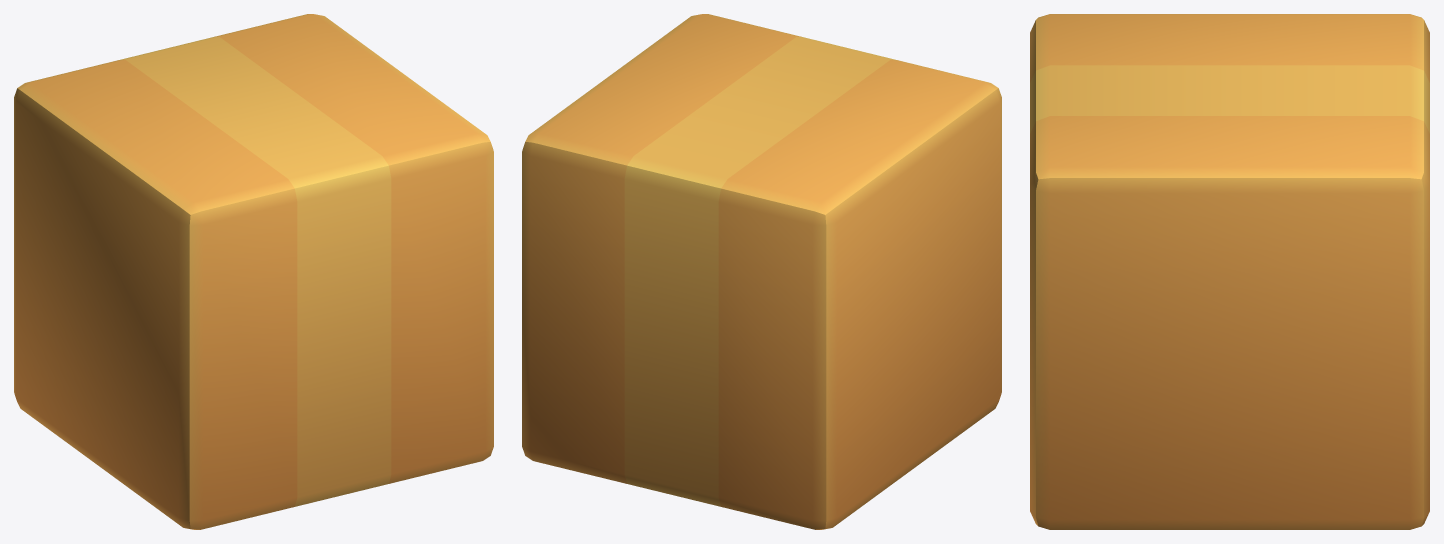
The model's file is striped-block-yellow.glb.
The picture shows the model from 3 angles, left to right: view 1: azimuth 30°, elevation 25°; view 2: azimuth 150°, elevation 25°; view 3: azimuth 270°, elevation 25°; orthographic projection. The views are drawn at different scales.
Parts seen in each view (by area): view 1: striped_block_yellow; view 2: striped_block_yellow; view 3: striped_block_yellow.
Boxes of the visible parts, <box> form: striped_block_yellow: <box>14,14,493,529</box>; striped_block_yellow: <box>522,14,1001,529</box>; striped_block_yellow: <box>1030,14,1429,529</box>.
Bounding box in the file's own units: 2 × 2 × 2.
1 material, 1 textured.
